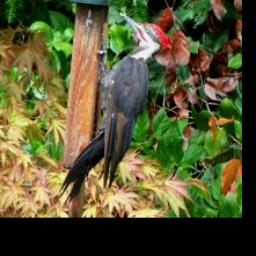Woodpecker: (59, 11, 173, 204)
